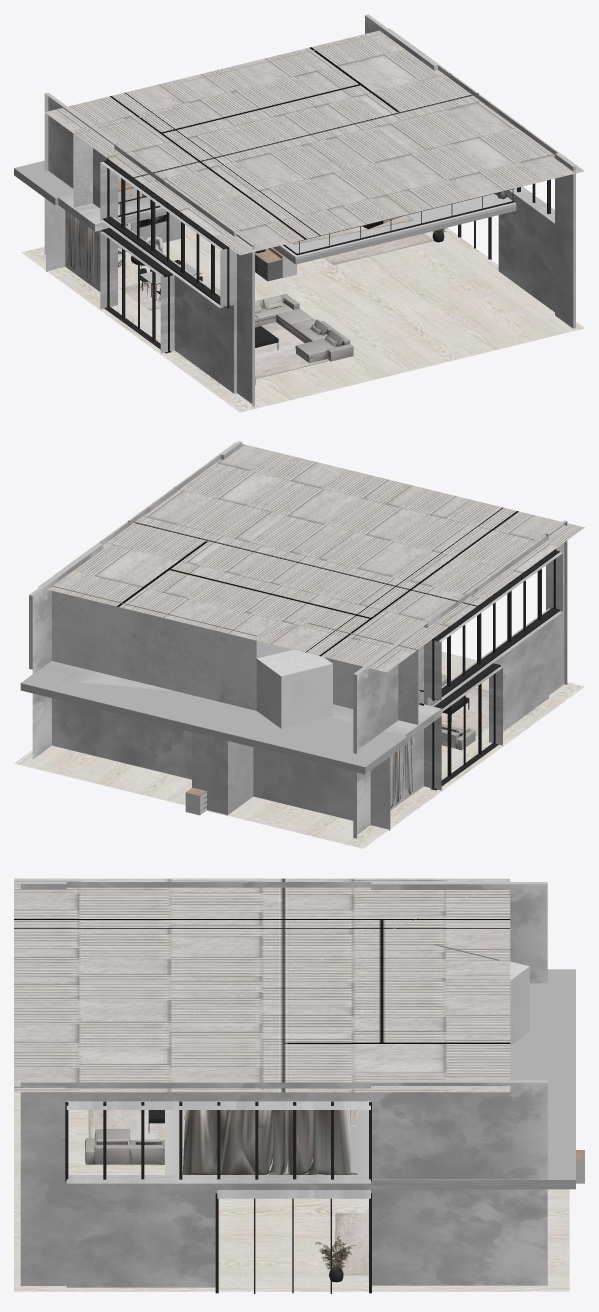
File: int_i14.glb
3 views of the same model, one above another, from view 1: azimuth 30°, elevation 25°; view 2: azimuth 150°, elevation 25°; view 3: azimuth 270°, elevation 25° (orthographic). The views are drawn at different scales.
Parts seen in each view (by area): view 1: Plane.012_Material.019_0, Cube_Material.002_0, Plane_Material.001_0, Cube.001_Material.004_0, Plane.011_Material.010_0, node_0_Material.005_0, Plane.002_Material.003_0, node_0.002_Material.013_0, Cube.006_Material.007_0; view 2: Plane.012_Material.019_0, Cube_Material.002_0, Plane.002_Material.003_0, Plane_Material.001_0, Cube.001_Material.004_0, Plane.011_Material.010_0, node_0.002_Material.013_0, node_0_Material.005_0, Cube.006_Material.007_0; view 3: Plane.012_Material.019_0, Cube_Material.002_0, Plane_Material.001_0, node_0.002_Material.013_0, Cube.001_Material.004_0, Plane.011_Material.010_0, node_0_Material.005_0, Plane.002_Material.003_0, Cube.018_Material.018_0.
Part boxes in pixels (box(x1,y1,x2,y2)): Plane.012_Material.019_0: box(45, 28, 584, 255); Cube_Material.002_0: box(14, 14, 575, 406); Plane_Material.001_0: box(21, 225, 584, 412); Cube.001_Material.004_0: box(102, 158, 550, 353); Plane.011_Material.010_0: box(119, 215, 433, 378); node_0_Material.005_0: box(255, 294, 353, 363); Plane.002_Material.003_0: box(73, 31, 391, 207); node_0.002_Material.013_0: box(68, 190, 506, 284); Cube.006_Material.007_0: box(118, 180, 296, 281); Plane.012_Material.019_0: box(38, 442, 584, 672); Cube_Material.002_0: box(20, 441, 567, 838); Plane.002_Material.003_0: box(52, 585, 418, 728); Plane_Material.001_0: box(14, 652, 584, 848); Cube.001_Material.004_0: box(419, 549, 559, 790); Plane.011_Material.010_0: box(441, 688, 488, 736); node_0.002_Material.013_0: box(390, 737, 413, 807); node_0_Material.005_0: box(441, 674, 475, 750); Cube.006_Material.007_0: box(185, 787, 207, 815); Plane.012_Material.019_0: box(14, 878, 510, 1092); Cube_Material.002_0: box(20, 882, 575, 1287); Plane_Material.001_0: box(14, 1092, 569, 1291); node_0.002_Material.013_0: box(182, 1110, 357, 1174); Cube.001_Material.004_0: box(65, 1101, 371, 1293); Plane.011_Material.010_0: box(88, 1110, 368, 1275); node_0_Material.005_0: box(85, 1129, 164, 1165); Plane.002_Material.003_0: box(434, 944, 529, 1045); Cube.018_Material.018_0: box(315, 1236, 355, 1271).
Size of what is drawn, in the model's own units: 11.54 by 5.05 by 12.58.
Materials: 21 (20 with a texture image).
